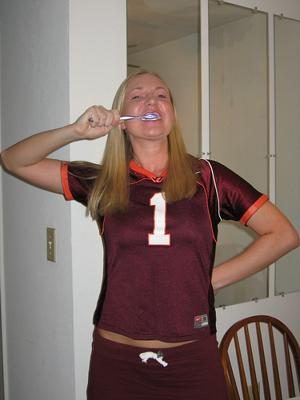person: (1, 71, 299, 400)
